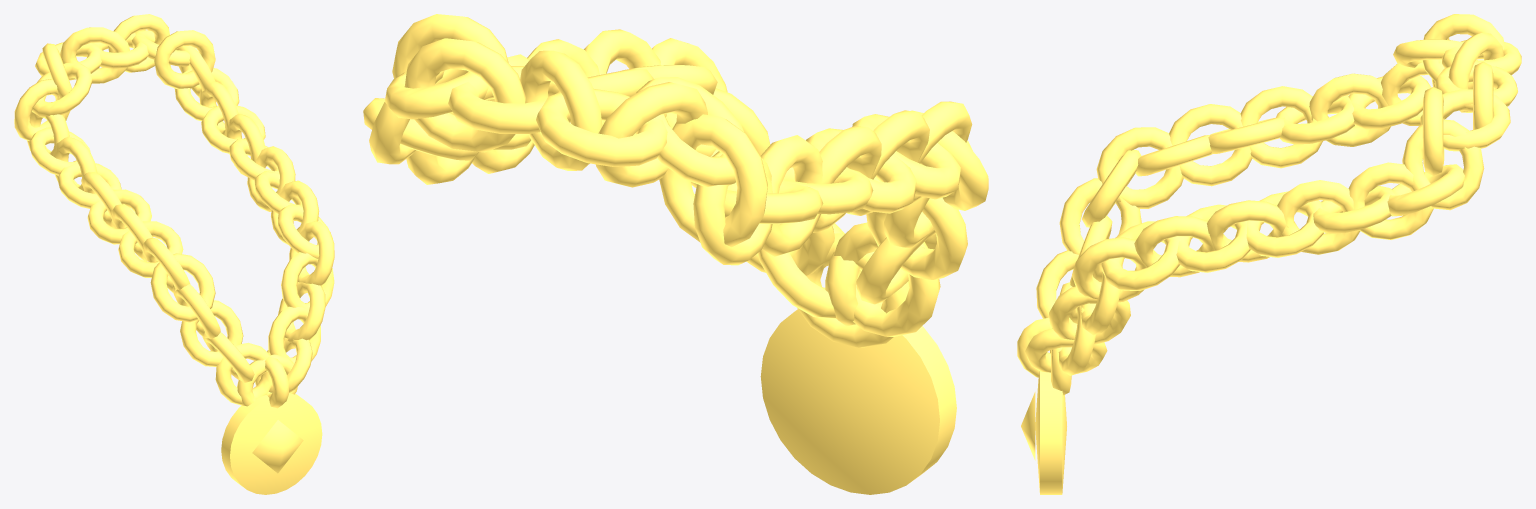
Rendered from g67_misha_chain.glb.
The picture shows the model from 3 angles, left to right: view 1: azimuth 30°, elevation 25°; view 2: azimuth 150°, elevation 25°; view 3: azimuth 270°, elevation 25°; orthographic projection. The views are drawn at different scales.
Parts seen in each view (by area): view 1: MishaChain; view 2: MishaChain; view 3: MishaChain.
Part boxes in pixels (x1,y1,x2,y2): MishaChain: (14,14,334,494); MishaChain: (363,14,988,494); MishaChain: (1017,14,1521,494).
Bounding box in the file's own units: 0.1986 × 0.3068 × 0.3155.
